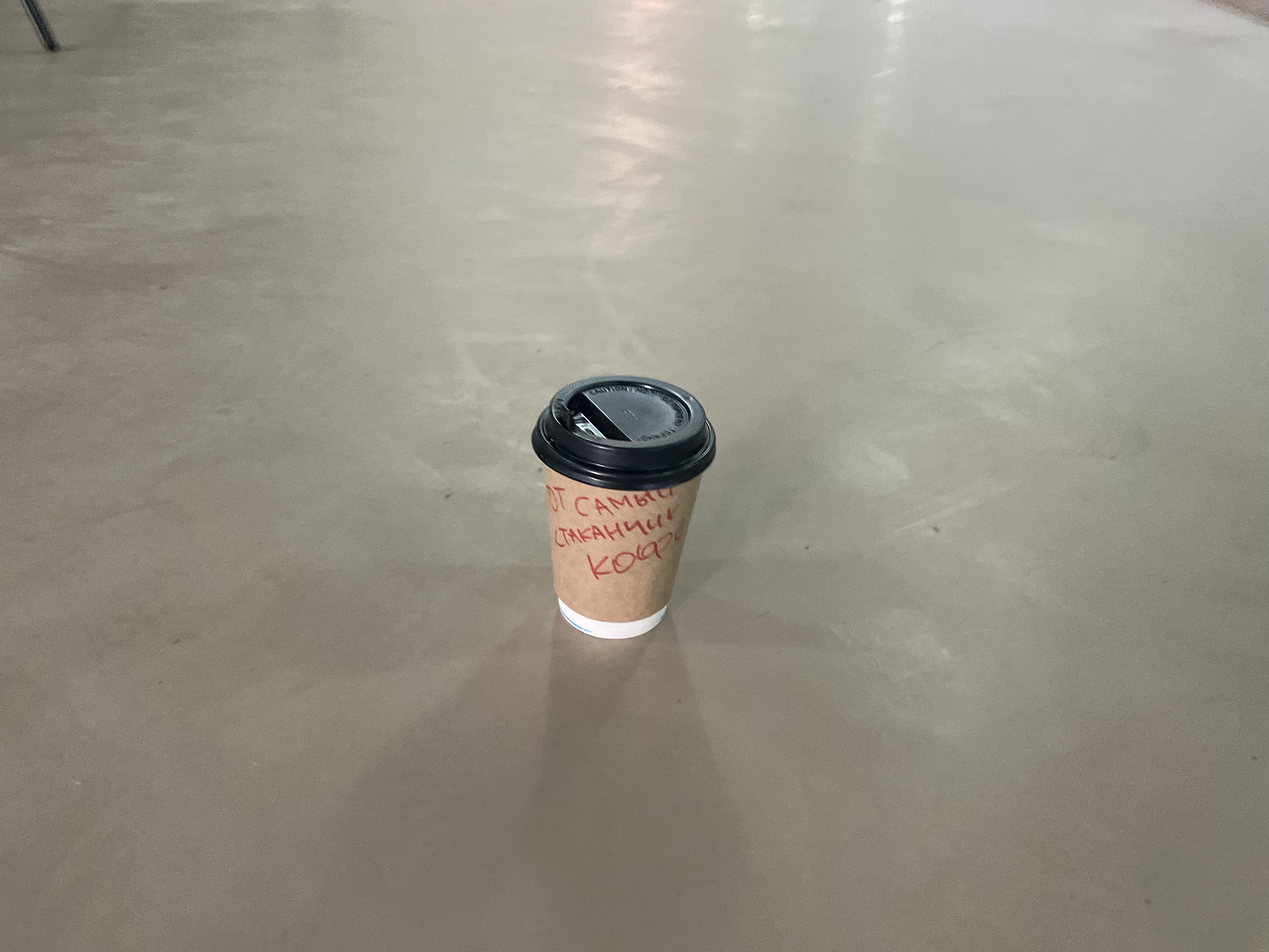cup: (529, 375, 716, 642)
